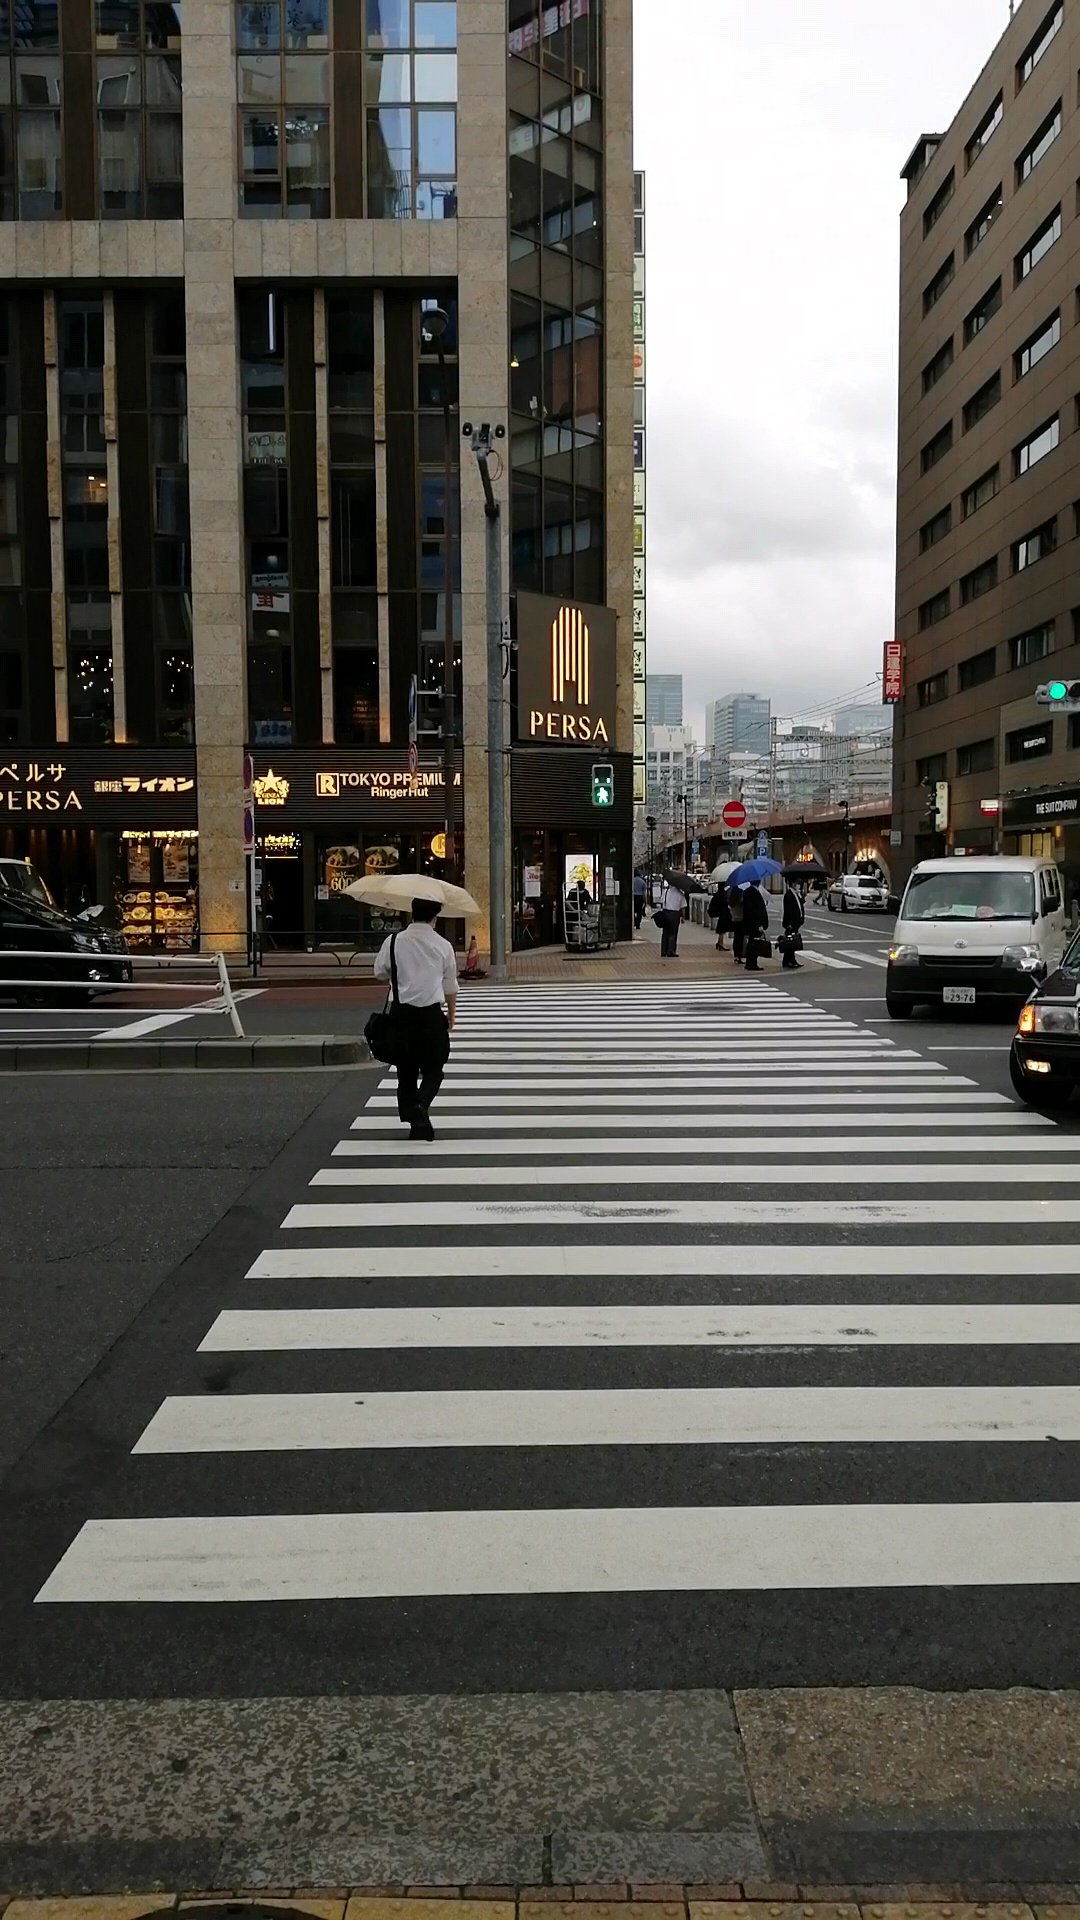green: (588, 762, 615, 807)
